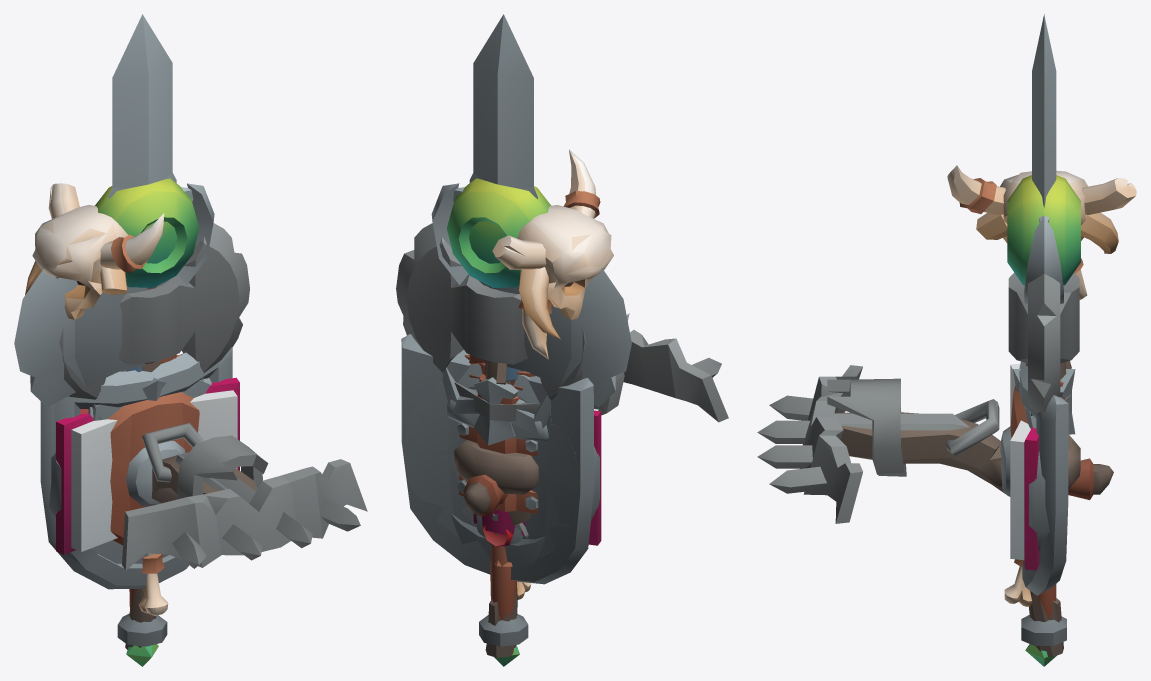
The model's file is armes.glb.
3 views of the same model, side by side, from view 1: azimuth 30°, elevation 25°; view 2: azimuth 150°, elevation 25°; view 3: azimuth 270°, elevation 25° (orthographic).
Parts seen in each view (by area): view 1: Skeleton_Crossbow, Skeleton_Axe, Skeleton_Staff, axe_1handed, spellbook_open, staff, sword_2handed, shield_badge_color, shield_round, Skeleton_Shield_Small_A; view 2: shield_badge_color, sword_2handed, Skeleton_Staff, Skeleton_Axe, staff, shield_round, axe_1handed, Skeleton_Crossbow, spellbook_open, Skeleton_Shield_Small_A, Skeleton_Blade, sword_1handed; view 3: Skeleton_Crossbow, staff, Skeleton_Staff, Skeleton_Axe, shield_badge_color, sword_2handed, spellbook_open, shield_round, Skeleton_Shield_Small_A.
Boxes of the visible parts, x1,y1,x2,y2 form: Skeleton_Crossbow: [122, 423, 367, 570]; Skeleton_Axe: [59, 223, 249, 399]; Skeleton_Staff: [25, 183, 168, 649]; axe_1handed: [14, 268, 169, 406]; spellbook_open: [56, 377, 239, 554]; staff: [95, 178, 214, 666]; sword_2handed: [92, 14, 203, 420]; shield_badge_color: [40, 347, 232, 589]; shield_round: [48, 378, 211, 563]; Skeleton_Shield_Small_A: [49, 407, 93, 517]; shield_badge_color: [401, 334, 593, 584]; sword_2handed: [442, 14, 551, 549]; Skeleton_Staff: [485, 149, 613, 657]; Skeleton_Axe: [396, 223, 586, 520]; staff: [431, 178, 551, 666]; shield_round: [403, 381, 584, 557]; axe_1handed: [479, 268, 631, 406]; Skeleton_Crossbow: [463, 313, 728, 516]; spellbook_open: [457, 409, 601, 545]; Skeleton_Shield_Small_A: [451, 364, 599, 565]; Skeleton_Blade: [453, 187, 540, 538]; sword_1handed: [445, 173, 548, 531]; Skeleton_Crossbow: [757, 365, 1113, 523]; staff: [1007, 175, 1080, 666]; Skeleton_Staff: [947, 165, 1136, 656]; Skeleton_Axe: [1008, 272, 1079, 413]; shield_badge_color: [1019, 361, 1068, 595]; sword_2handed: [1013, 14, 1075, 434]; spellbook_open: [1010, 363, 1039, 570]; shield_round: [1000, 386, 1080, 561]; Skeleton_Shield_Small_A: [1029, 451, 1049, 551].
Size of the model in its own units: 1.14 by 2.86 by 1.51.
Materials: 5 (5 with a texture image).
